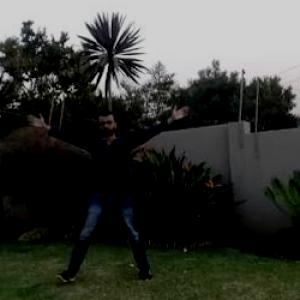takeoff: (41, 102, 205, 282)
